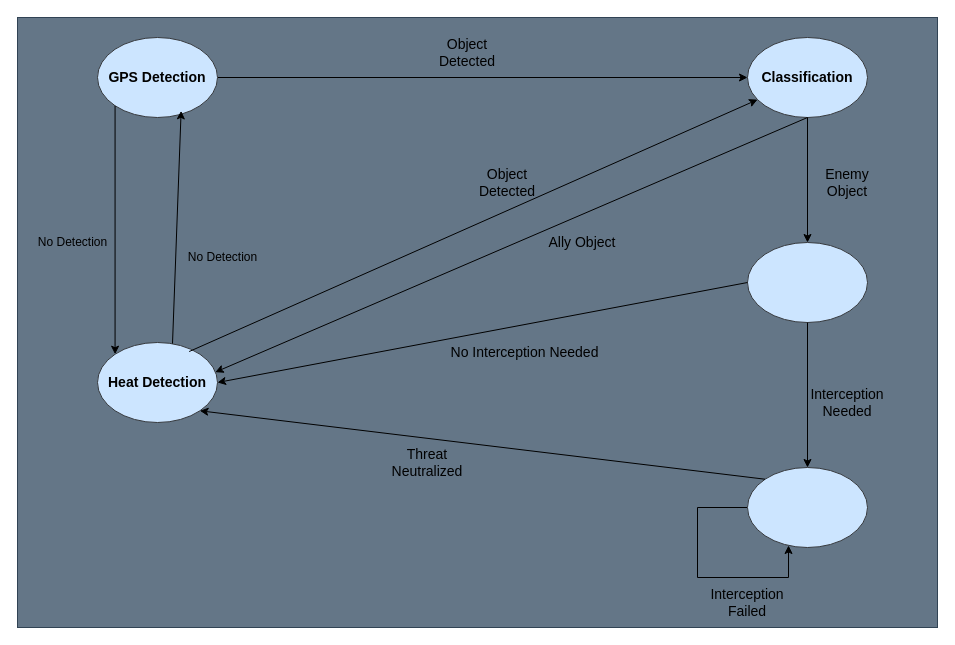
This 955x645 diagram has some shape labels left out. The centre of each missing label's shape, as x and y in pixels:
Interception & Alert: the point at 807,507
Path Determination: the point at 807,282
